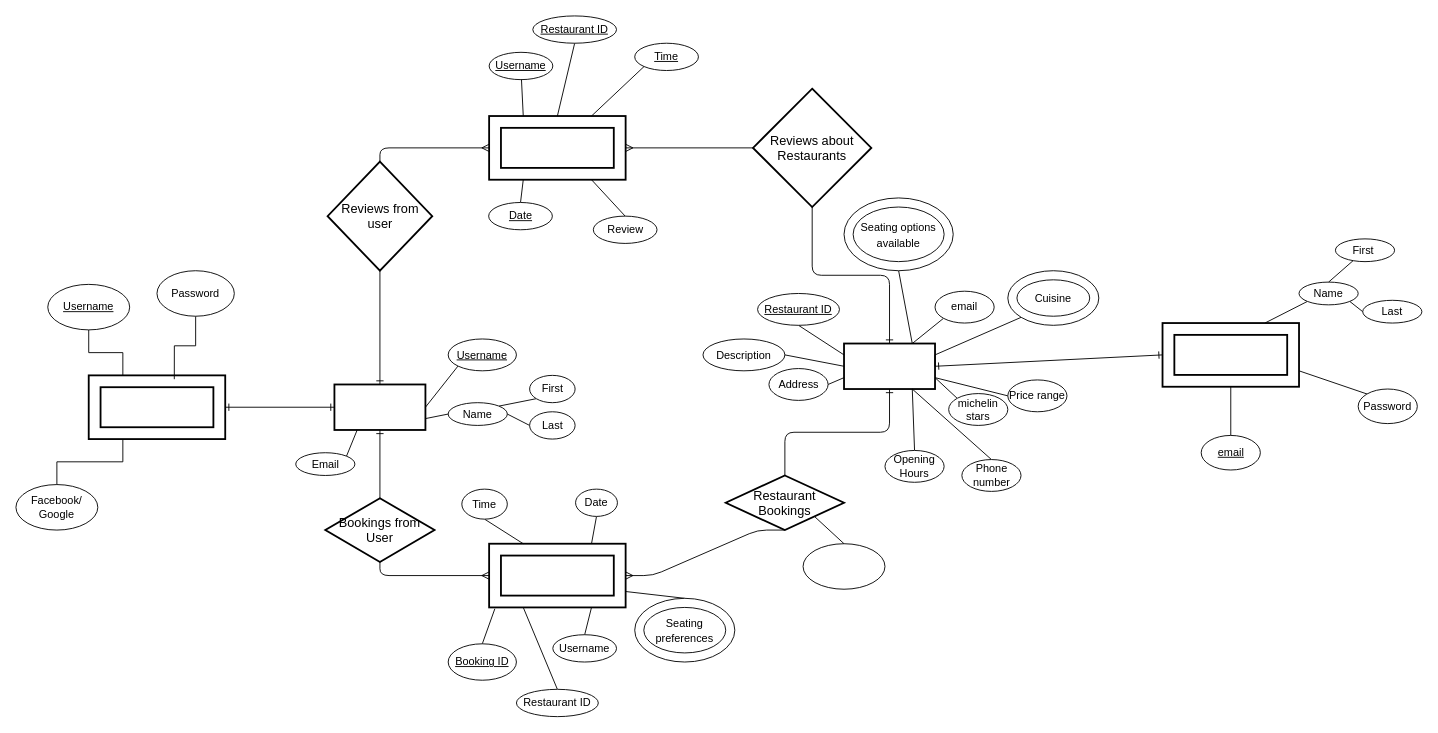
Some shapes in this 1438 by 733 pixel diagram are drawn without their labels. Here are the shapes that lost their labels. From the top down, the box of each, then its label:
(488, 115, 626, 180): REVIEWS
(843, 342, 935, 389): RESTAURANT
(1161, 322, 1299, 387): RESTAURANT LOGIN
(87, 374, 226, 440): USER LOGIN
(333, 383, 426, 430): USER
(488, 542, 626, 608): BOOKINGS
(802, 543, 885, 589): Number of tables free
